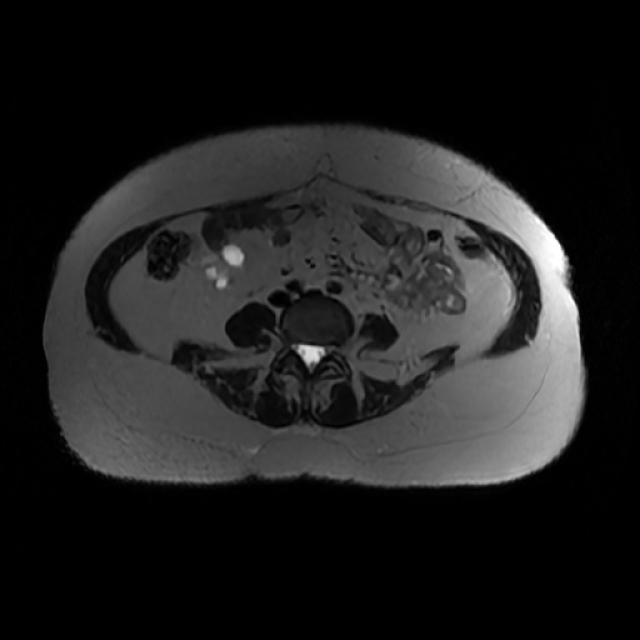sag: (204, 245, 245, 289)
